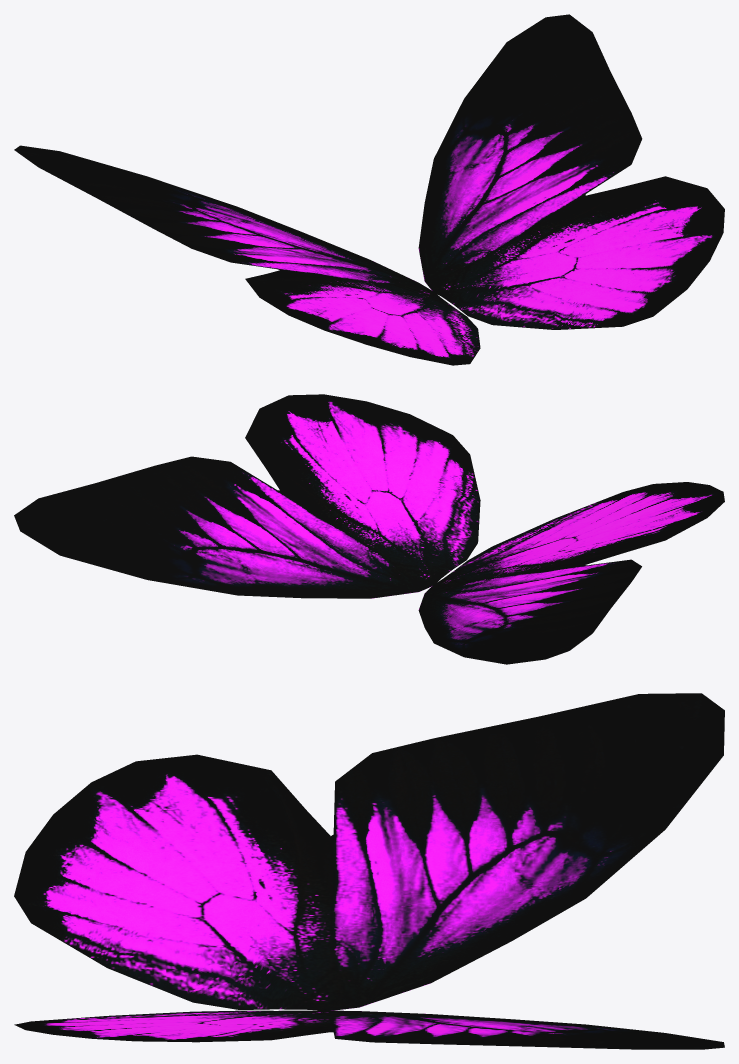
3 renders of one model, top to bottom at view 1: azimuth 30°, elevation 25°; view 2: azimuth 150°, elevation 25°; view 3: azimuth 270°, elevation 25°, orthographic. The views are drawn at different scales.
Visible parts, largest first — view 1: fly2, fly1; view 2: fly2, fly1; view 3: fly1, fly2.
Part boxes in pixels (left/top/right/bottom): fly2: left=418, top=14, right=724, bottom=329; fly1: left=14, top=145, right=480, bottom=365; fly2: left=14, top=394, right=480, bottom=598; fly1: left=418, top=482, right=724, bottom=664; fly1: left=14, top=693, right=724, bottom=1010; fly2: left=14, top=1010, right=724, bottom=1049.
Bounding box in the file's own units: 0.8794 × 0.1602 × 0.741.
Materials: 2 (2 with a texture image).
